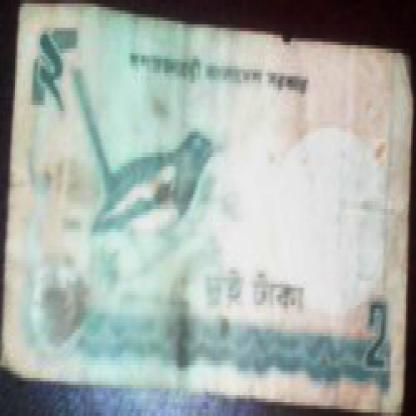two taka: (30, 14, 81, 139), (341, 294, 406, 392)
